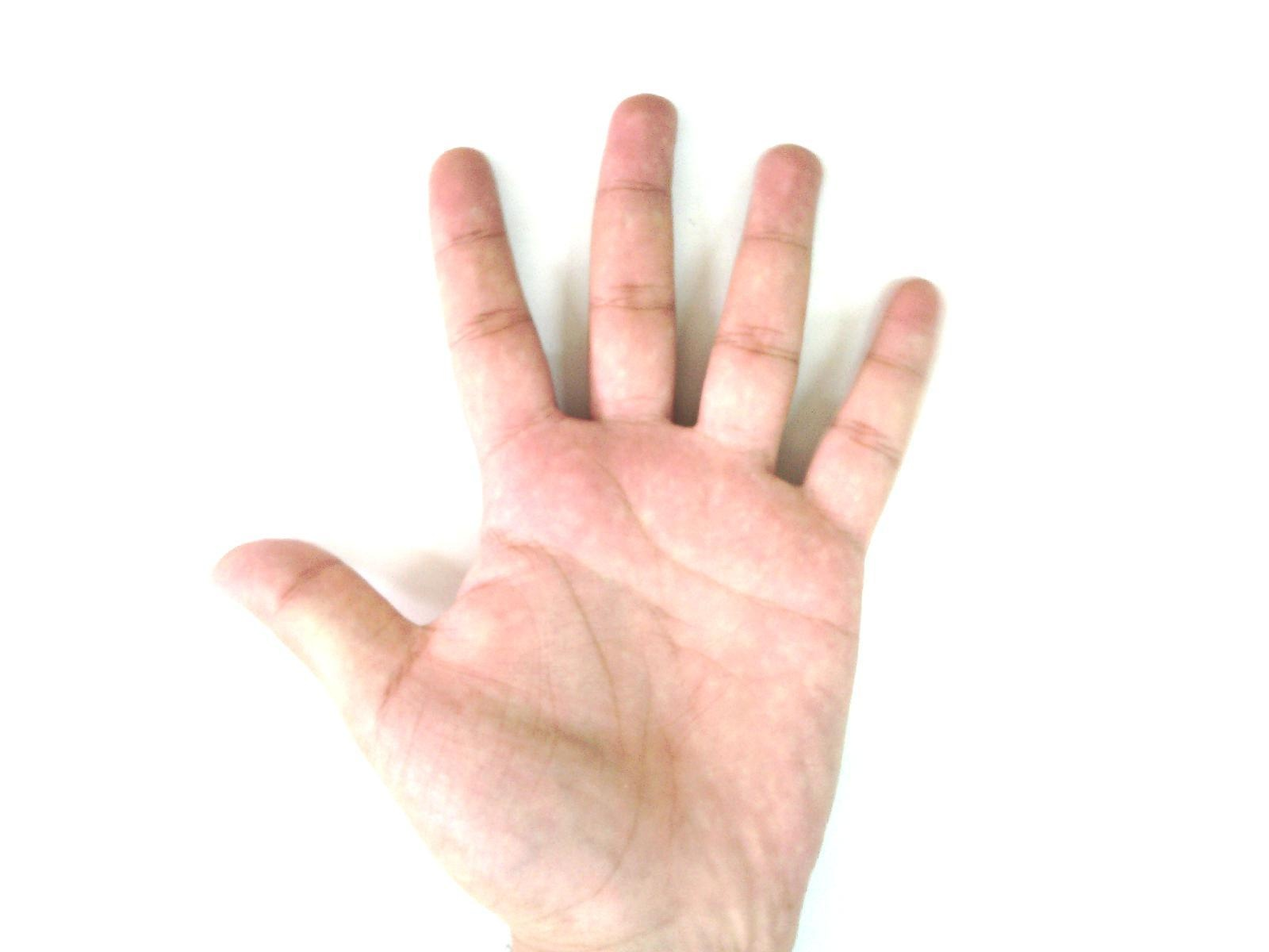open_palm: (211, 92, 949, 951)
